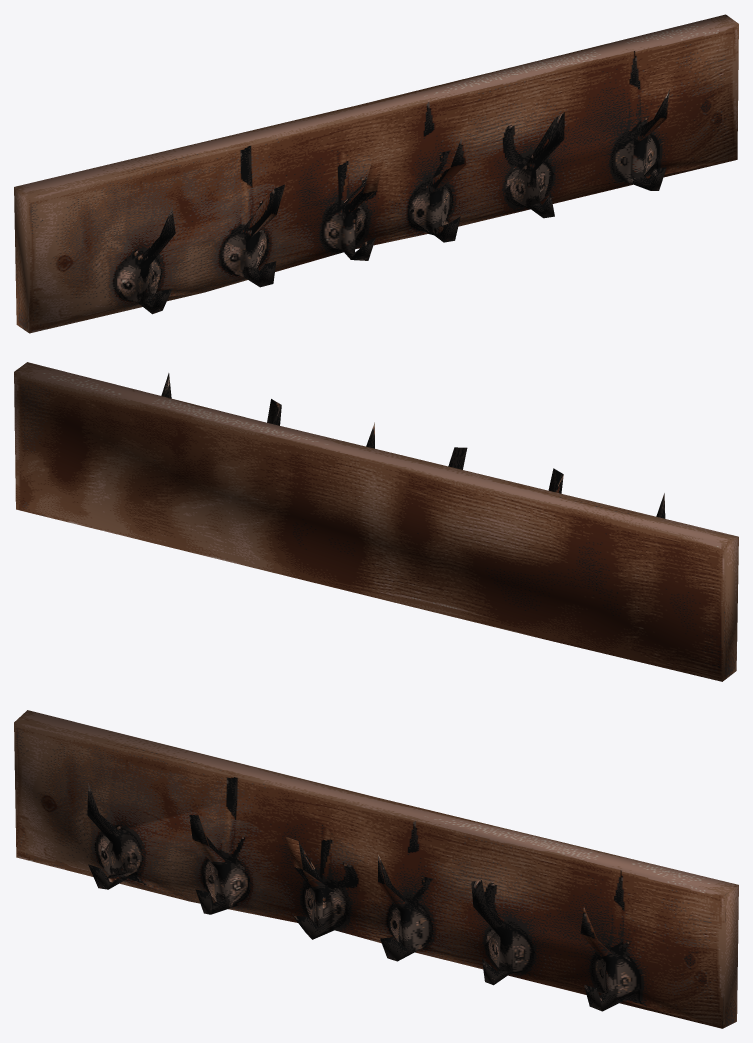
Rendered from Vesak_full.fbx.
3 views of the same model, one above another, from view 1: azimuth 30°, elevation 25°; view 2: azimuth 150°, elevation 25°; view 3: azimuth 330°, elevation 25° (orthographic).
Visible parts, largest first — view 1: Vesak; view 2: Vesak; view 3: Vesak.
Boxes of the visible parts, x1,y1,x2,y2 form: Vesak: (14,14,738,333); Vesak: (14,362,738,681); Vesak: (14,710,738,1028).
Bounding box in the file's own units: 190 × 35.3 × 23.68.
Materials: 1 (1 with a texture image).
